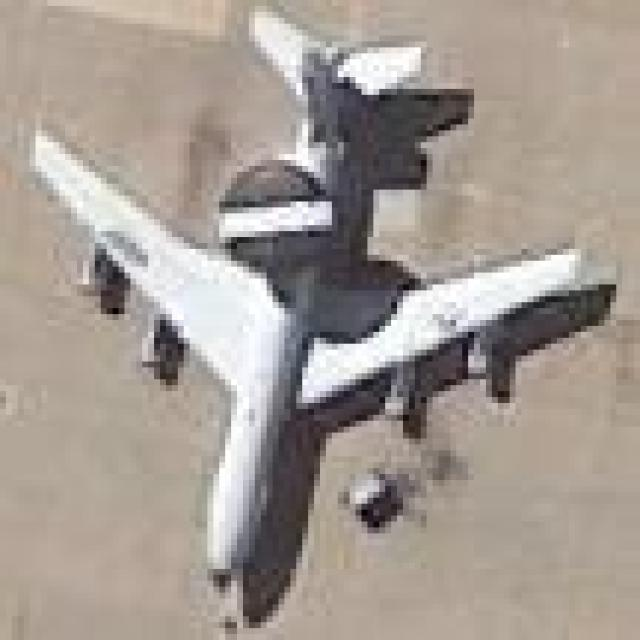E-3_TopDown: (18, 0, 616, 634)
